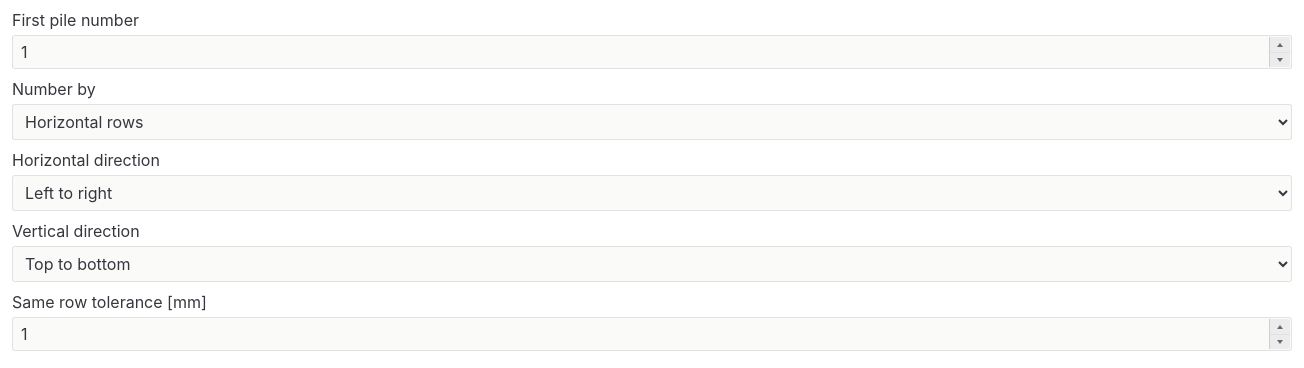
Test: export numbering fields can be cleared without committing zero
This screenshot has width=1304, height=368.
Clear the number field labelled "First pile number" at (652, 52), box x1=12 y1=35 x2=1292 y2=69
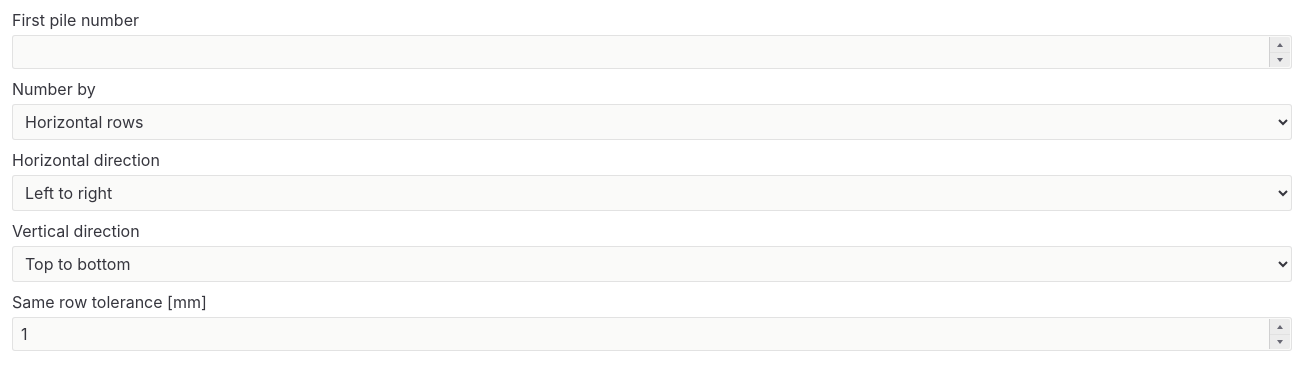
Leave the number field labelled "First pile number", box x1=12 y1=35 x2=1292 y2=69
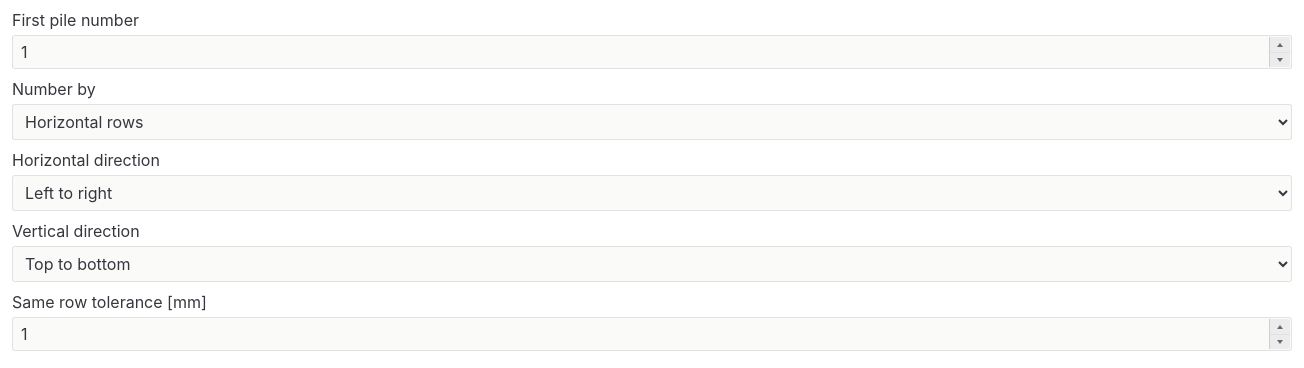
Result: the number field labelled "First pile number" holds "1" at x1=12 y1=35 x2=1292 y2=69
Clear the number field labelled "Same row tolerance [mm]" at (652, 334), box x1=12 y1=317 x2=1292 y2=351
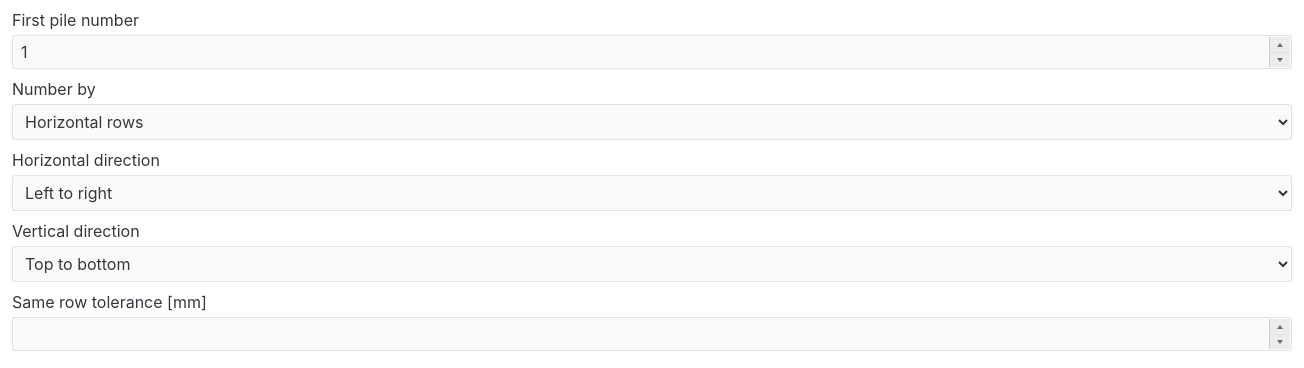
Leave the number field labelled "Same row tolerance [mm]", box x1=12 y1=317 x2=1292 y2=351
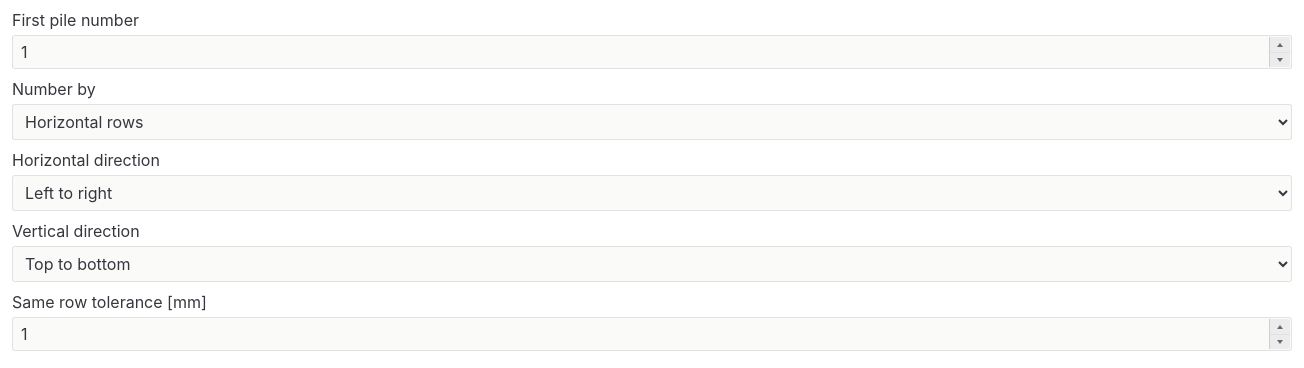
Result: the number field labelled "Same row tolerance [mm]" holds "1" at x1=12 y1=317 x2=1292 y2=351
